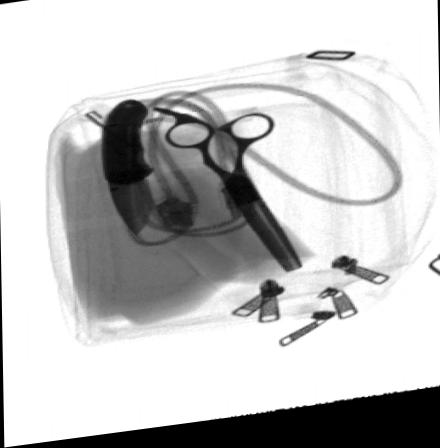Knife: (99, 101, 157, 240)
Scissors: (148, 110, 303, 279)
